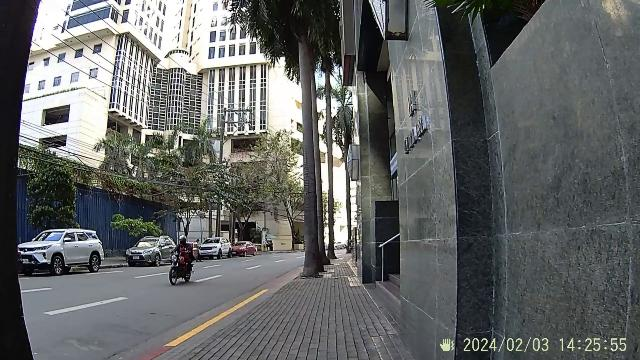motorcycle: (168, 243, 196, 288)
utility_post: (300, 48, 324, 280)
